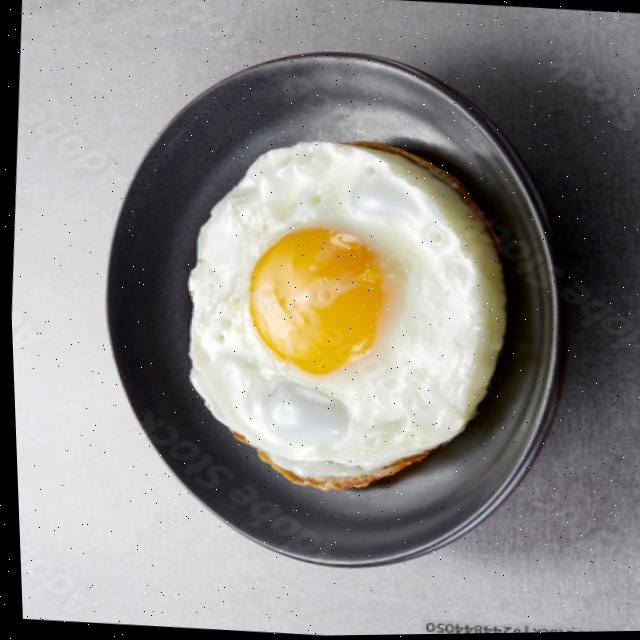Egg: (186, 142, 502, 488)
